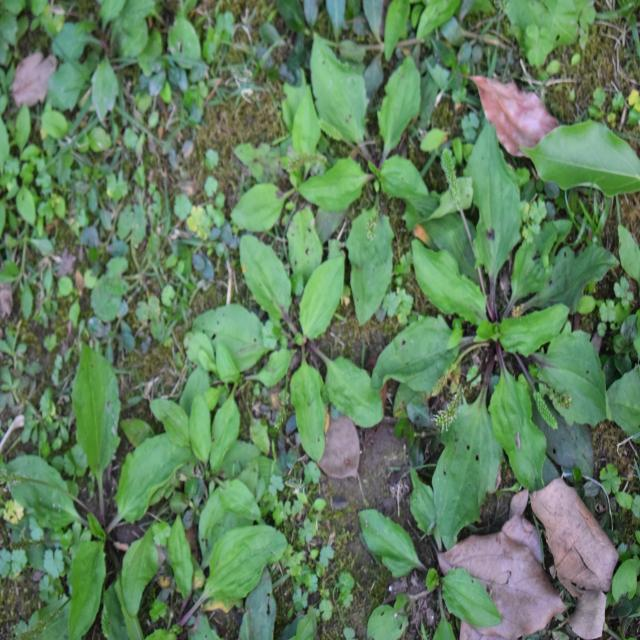plantain: (393, 152, 614, 506), (7, 347, 192, 614), (205, 248, 409, 446)
